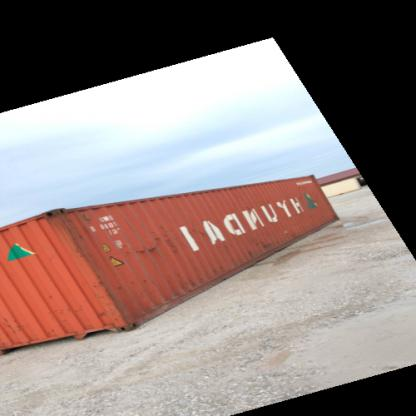Damage: (48, 215, 94, 269), (122, 223, 190, 256), (82, 281, 119, 326), (46, 288, 79, 324), (238, 228, 272, 258), (4, 311, 33, 341), (281, 223, 305, 241), (115, 279, 155, 289)
